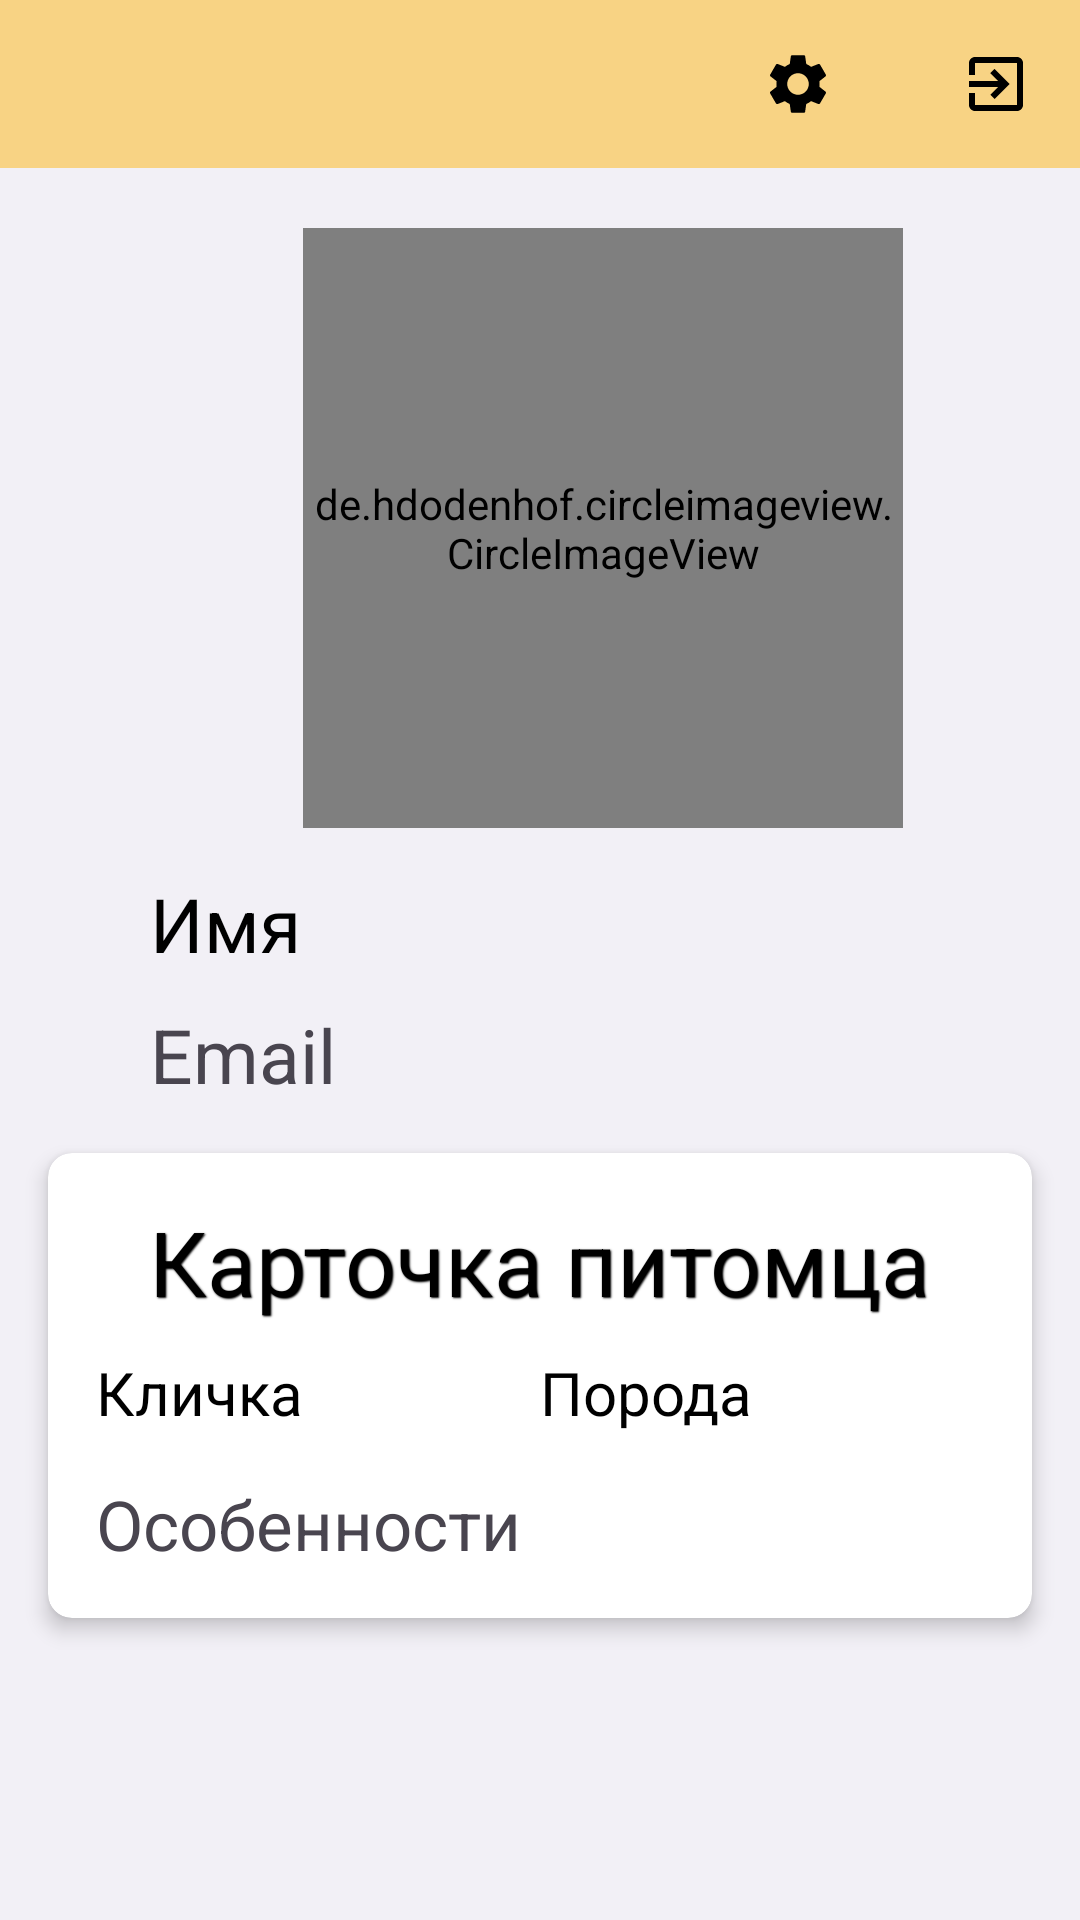

Where to tap for icons on this 1080 × 1920 app screen, as point (x, y):
exit to app: point (996, 84)
settings: point (798, 84)
